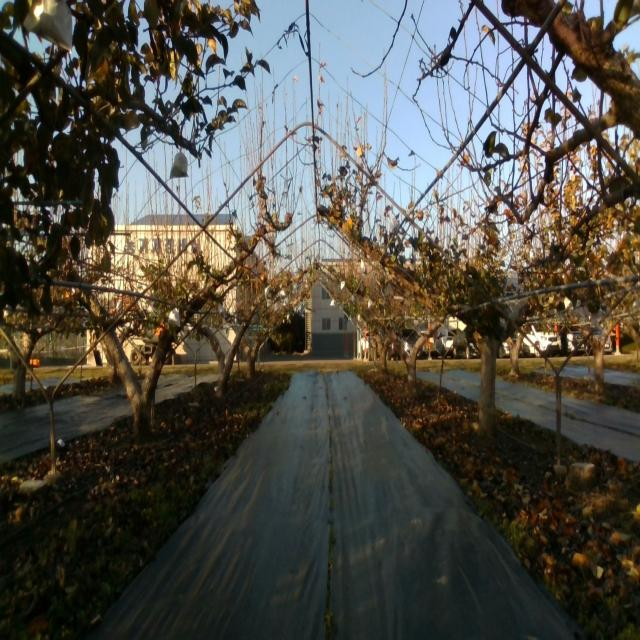pearbags: (21, 0, 73, 52), (170, 152, 188, 180), (167, 306, 181, 329), (388, 217, 399, 235)
